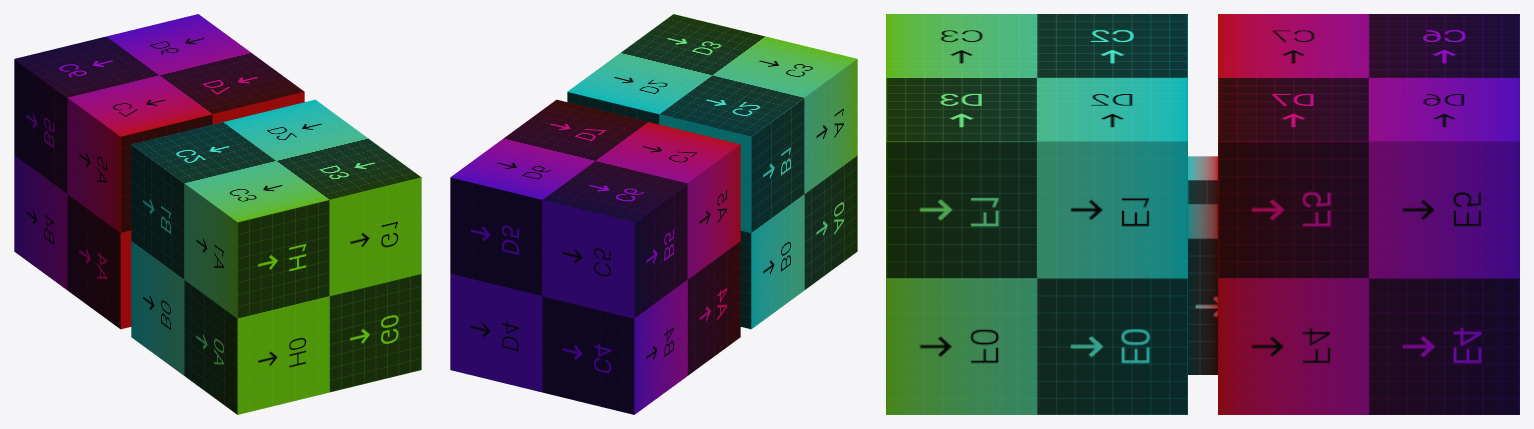
Rendered from two_rooms.glb.
3 renders of one model, left to right at view 1: azimuth 30°, elevation 25°; view 2: azimuth 150°, elevation 25°; view 3: azimuth 270°, elevation 25°, orthographic. The views are drawn at different scales.
Parts seen in each view (by area): view 1: Cube; view 2: Cube; view 3: Cube.
Part boxes in pixels (x1=…): Cube: x1=14, y1=14, x2=421, y2=414; Cube: x1=450, y1=14, x2=857, y2=414; Cube: x1=886, y1=14, x2=1519, y2=414.
Size of the model in its own units: 10 by 10 by 21.
1 material, 1 textured.
